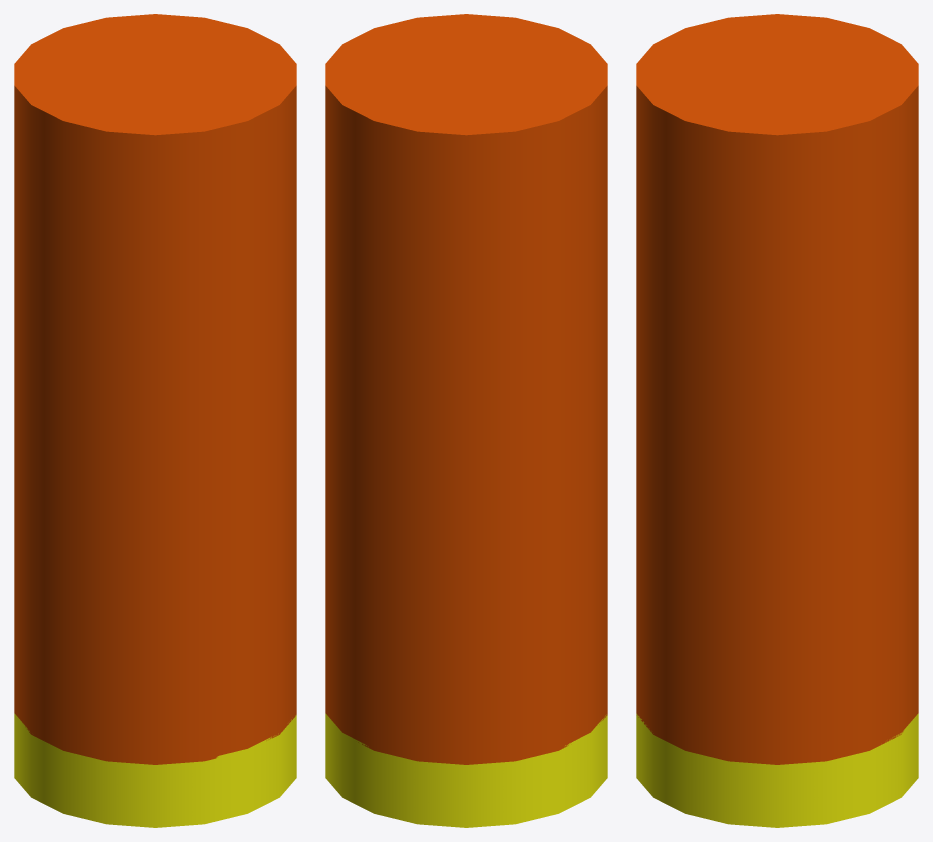
Rendered from yellowcrayon_Down.FBX.
3 views of the same model, side by side, from view 1: azimuth 30°, elevation 25°; view 2: azimuth 150°, elevation 25°; view 3: azimuth 270°, elevation 25° (orthographic).
Parts seen in each view (by area): view 1: Cylinder004, Cylinder003; view 2: Cylinder004, Cylinder003; view 3: Cylinder004, Cylinder003.
Part boxes in pixels (box(x1,y1,x2,y2)): Cylinder004: box(14, 14, 296, 764); Cylinder003: box(14, 713, 296, 827); Cylinder004: box(325, 14, 607, 764); Cylinder003: box(325, 713, 607, 827); Cylinder004: box(636, 14, 918, 764); Cylinder003: box(636, 713, 918, 827).
Bounding box in the file's own units: 12.9 × 34.37 × 12.71.
